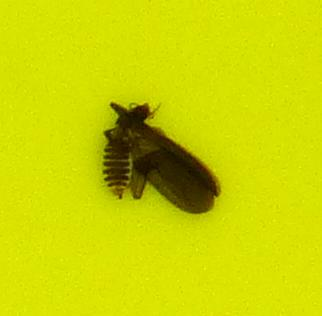Isoptera: (100, 100, 222, 216)
